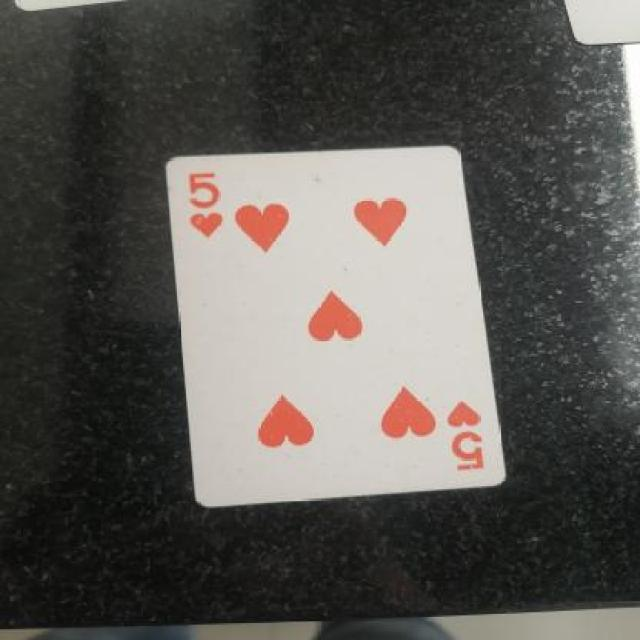5H: (176, 163, 247, 252), (440, 392, 506, 483)
